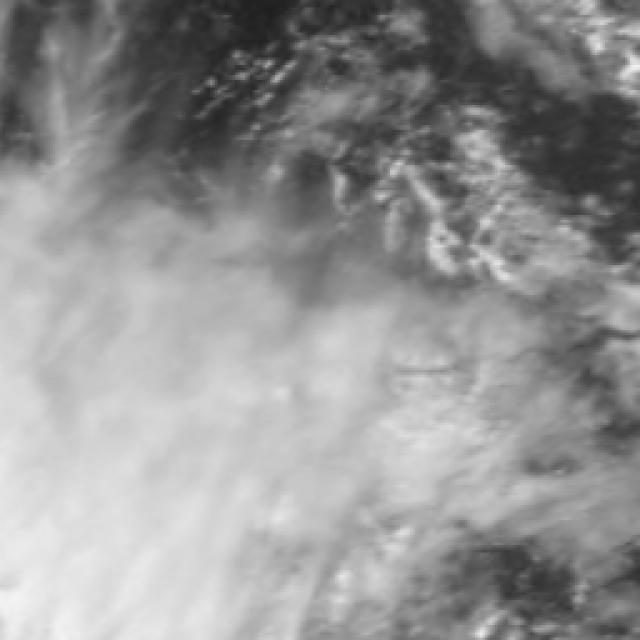CB: (0, 274, 269, 640)
